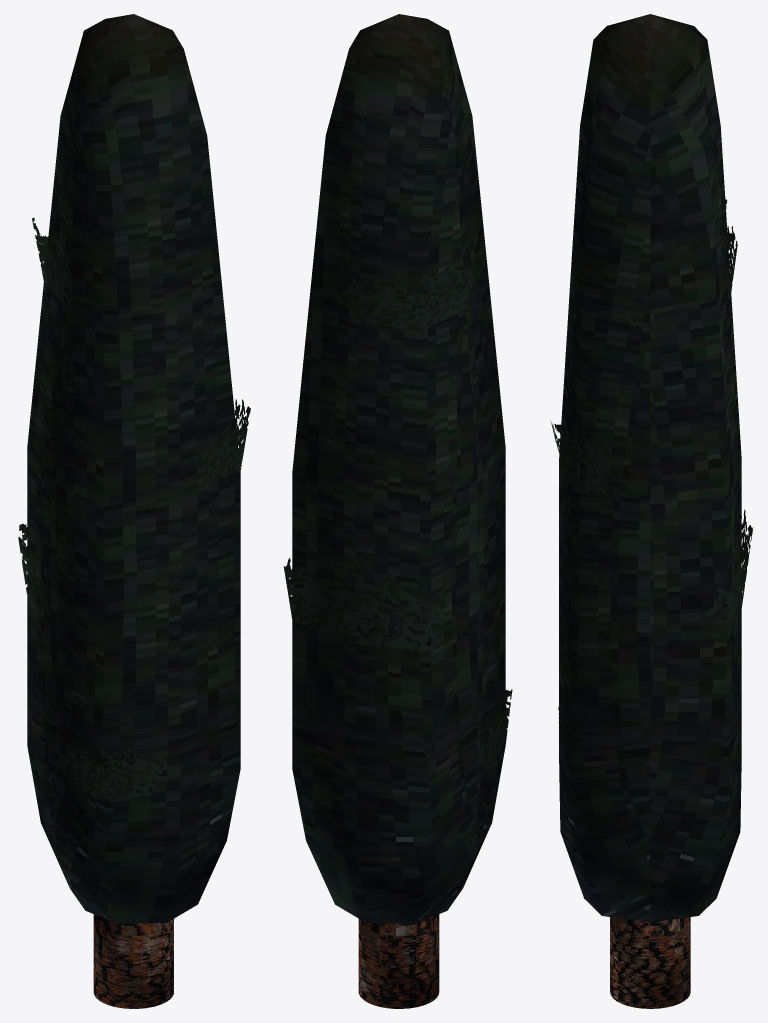
Rendered from cypresstree.glb.
3 views of the same model, side by side, from view 1: azimuth 30°, elevation 25°; view 2: azimuth 150°, elevation 25°; view 3: azimuth 270°, elevation 25° (orthographic).
Parts seen in each view (by area): view 1: Leaves; view 2: Leaves; view 3: Leaves.
Part boxes in pixels (x1,y1,x2,y2): Leaves: (18,14,250,1008); Leaves: (283,14,512,1008); Leaves: (550,14,753,1008).
Size of the model in its own units: 2.59 by 13.82 by 2.72.
Materials: 2 (2 with a texture image).
